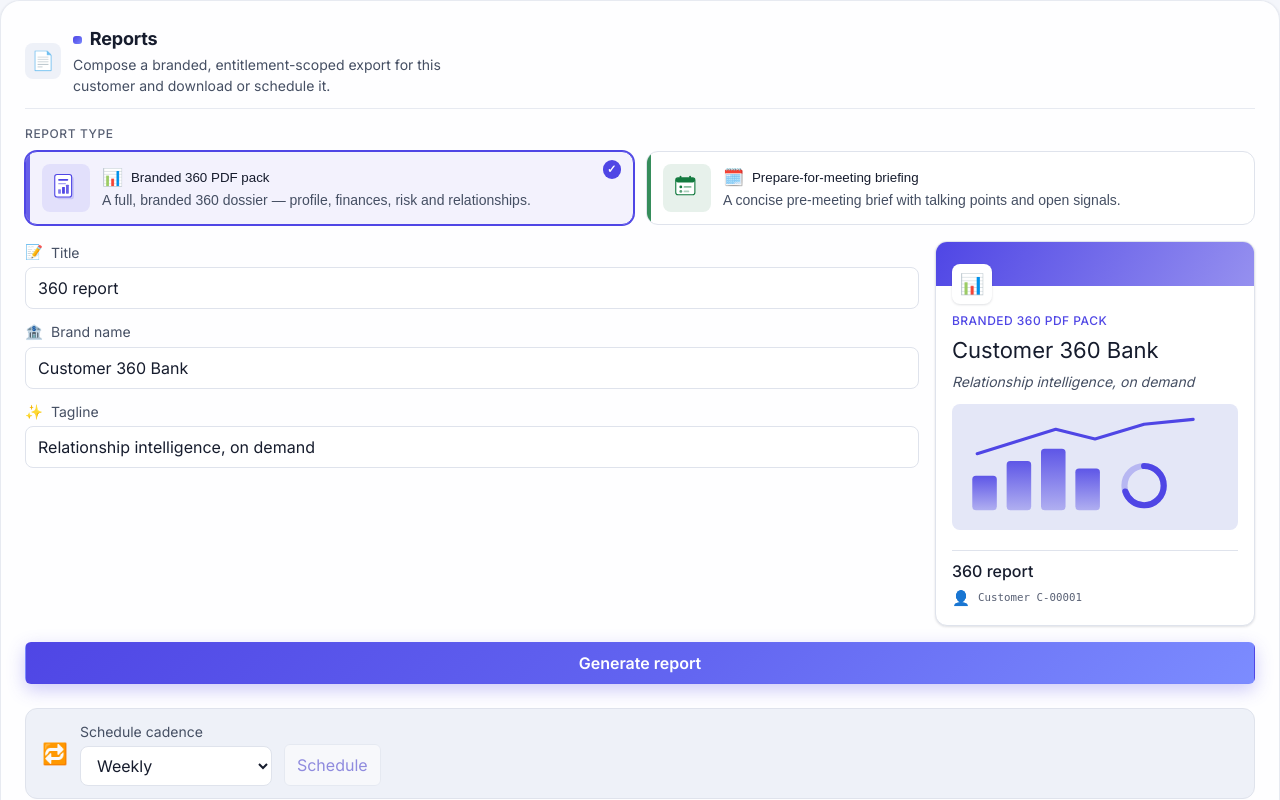
Test case: ReportsPanel › defines, runs and lists a report, announcing the outcome
The width and height of the screenshot is (1280, 800).
Click the button "Generate report". click: (640, 663)
box: x1=25 y1=642 x2=1255 y2=684
(page scrolled)
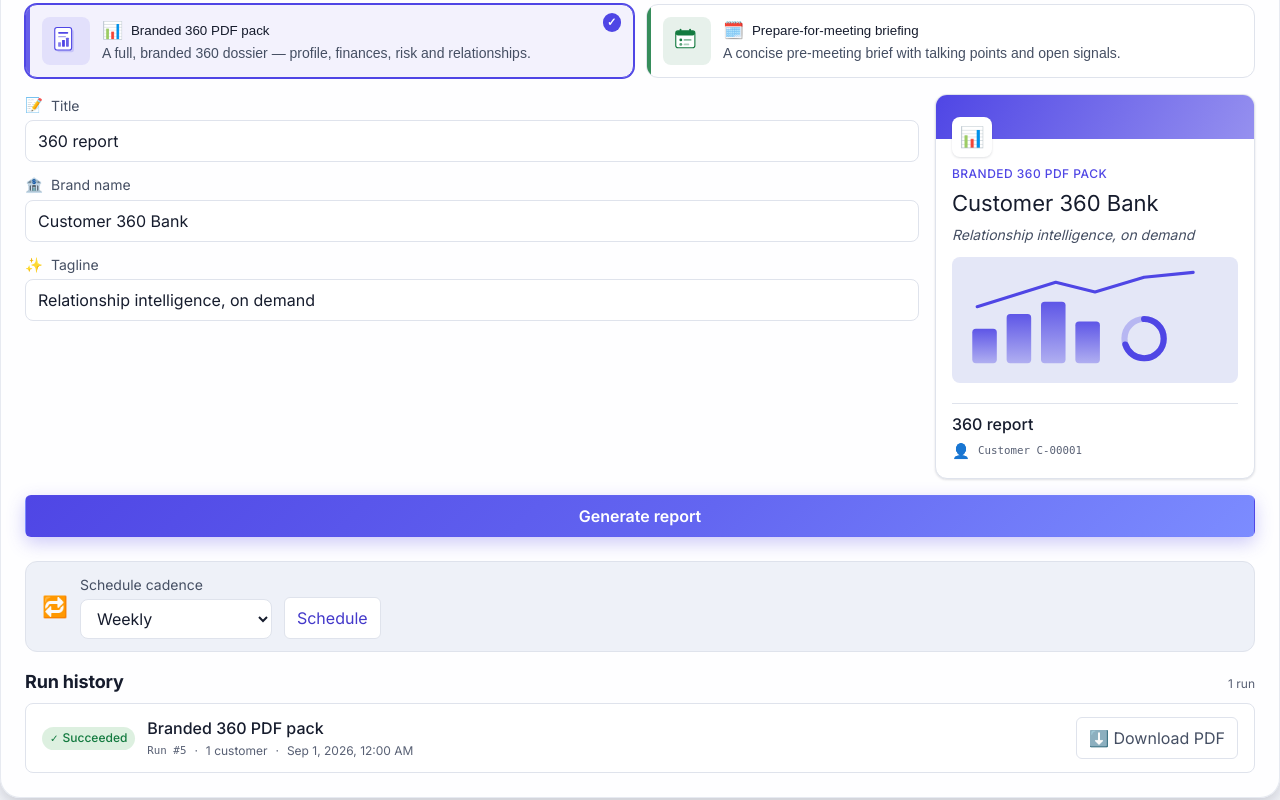
Expected: the button "⬇️ Download PDF" is shown, x1=1076 y1=717 x2=1238 y2=759
